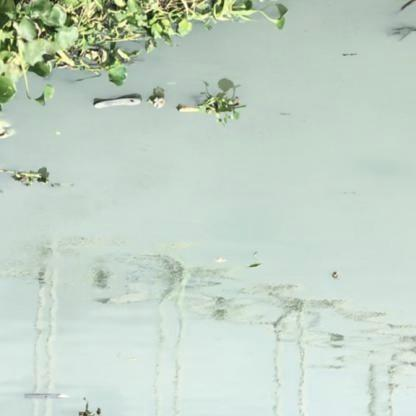Plastic: (175, 103, 201, 115)
Trash: (93, 93, 145, 110)
